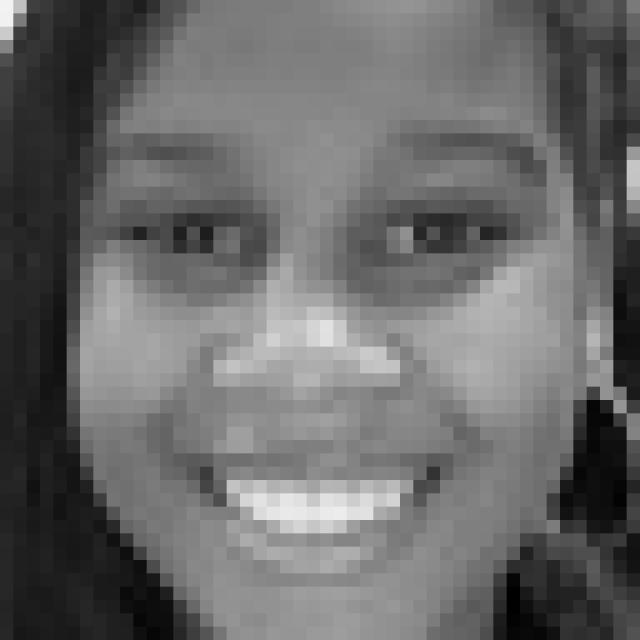happy: (100, 124, 556, 590)
